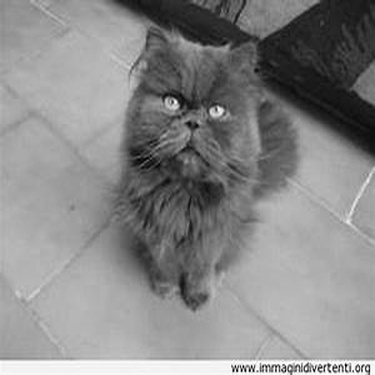cat: (111, 14, 278, 318)
